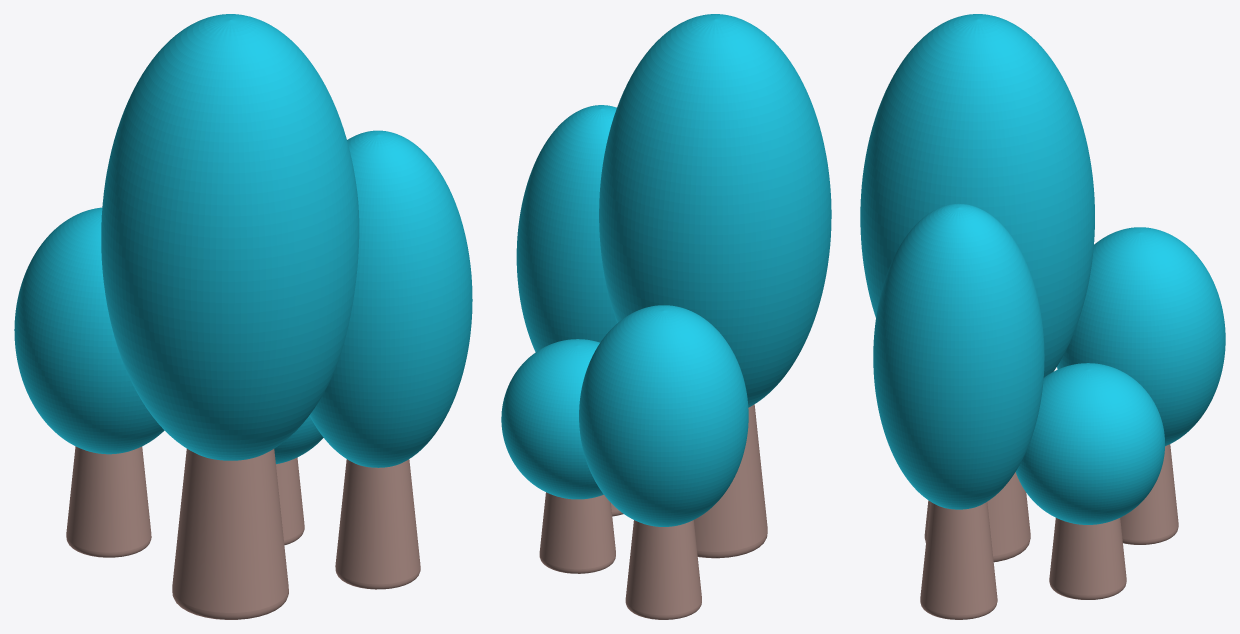
The model's file is blueS.fbx.
3 views of the same model, side by side, from view 1: azimuth 30°, elevation 25°; view 2: azimuth 150°, elevation 25°; view 3: azimuth 270°, elevation 25° (orthographic). The views are drawn at different scales.
Visible parts, largest first — view 1: Sphere.006; view 2: Sphere.006; view 3: Sphere.006.
Part boxes in pixels (x1,y1,x2,y2): Sphere.006: (14, 14, 472, 619); Sphere.006: (501, 14, 831, 619); Sphere.006: (860, 14, 1225, 619).
Size of the model in its own units: 183 by 303 by 192.
